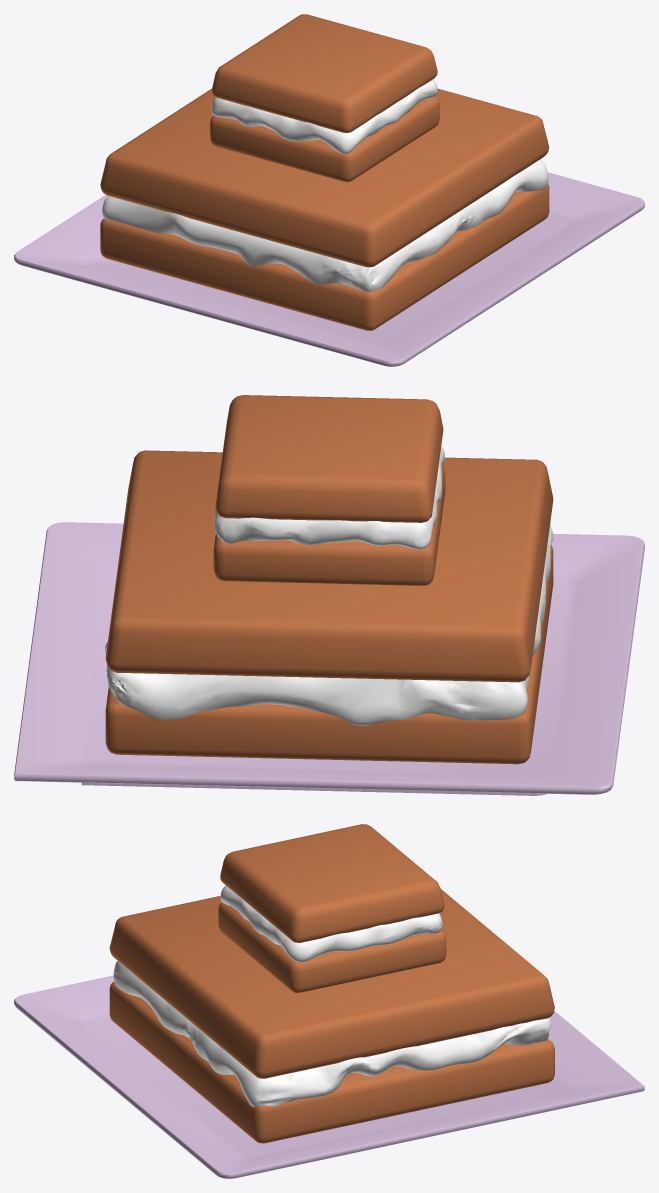
The model's file is cake_layer_2_v1.glb.
3 views of the same model, one above another, from view 1: azimuth 30°, elevation 25°; view 2: azimuth 150°, elevation 25°; view 3: azimuth 270°, elevation 25° (orthographic). The views are drawn at different scales.
Parts seen in each view (by area): view 1: layers_base, layers_dish, layers_details; view 2: layers_base, layers_dish, layers_details; view 3: layers_base, layers_dish, layers_details.
Part boxes in pixels (box(x1,y1,x2,y2)): layers_base: box(100, 14, 549, 330); layers_dish: box(14, 172, 644, 366); layers_details: box(102, 79, 548, 291); layers_base: box(105, 395, 553, 764); layers_dish: box(14, 522, 644, 795); layers_details: box(105, 446, 553, 725); layers_base: box(109, 824, 554, 1143); layers_dish: box(14, 975, 644, 1178); layers_details: box(113, 885, 551, 1107).
Size of the model in its own units: 6.41 by 2.29 by 6.46.
